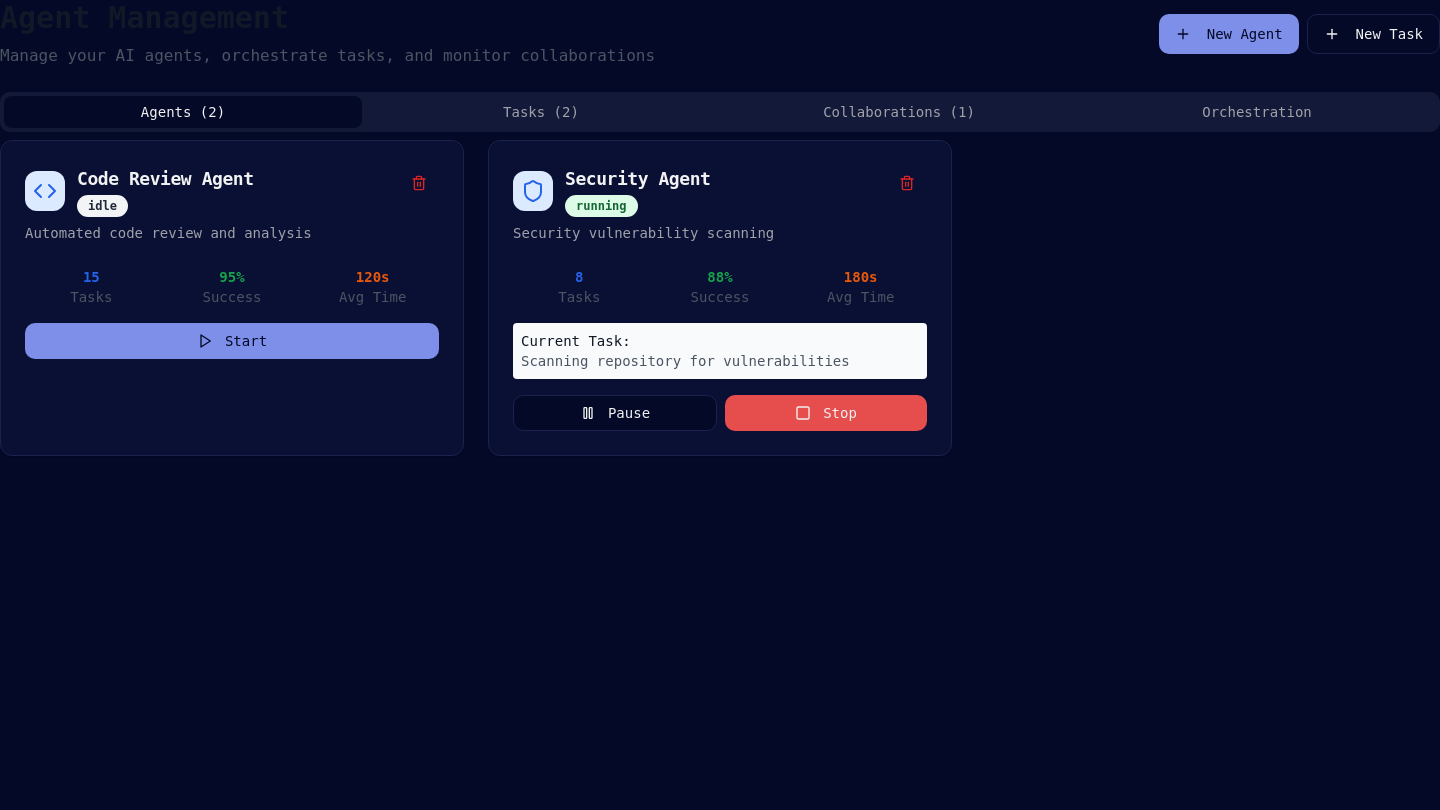
AgentManagement › disables create buttons when required fields are empty
# Open agent creation dialog
Click the button "New Agent" at (1229, 34), box [1159,14,1299,54]
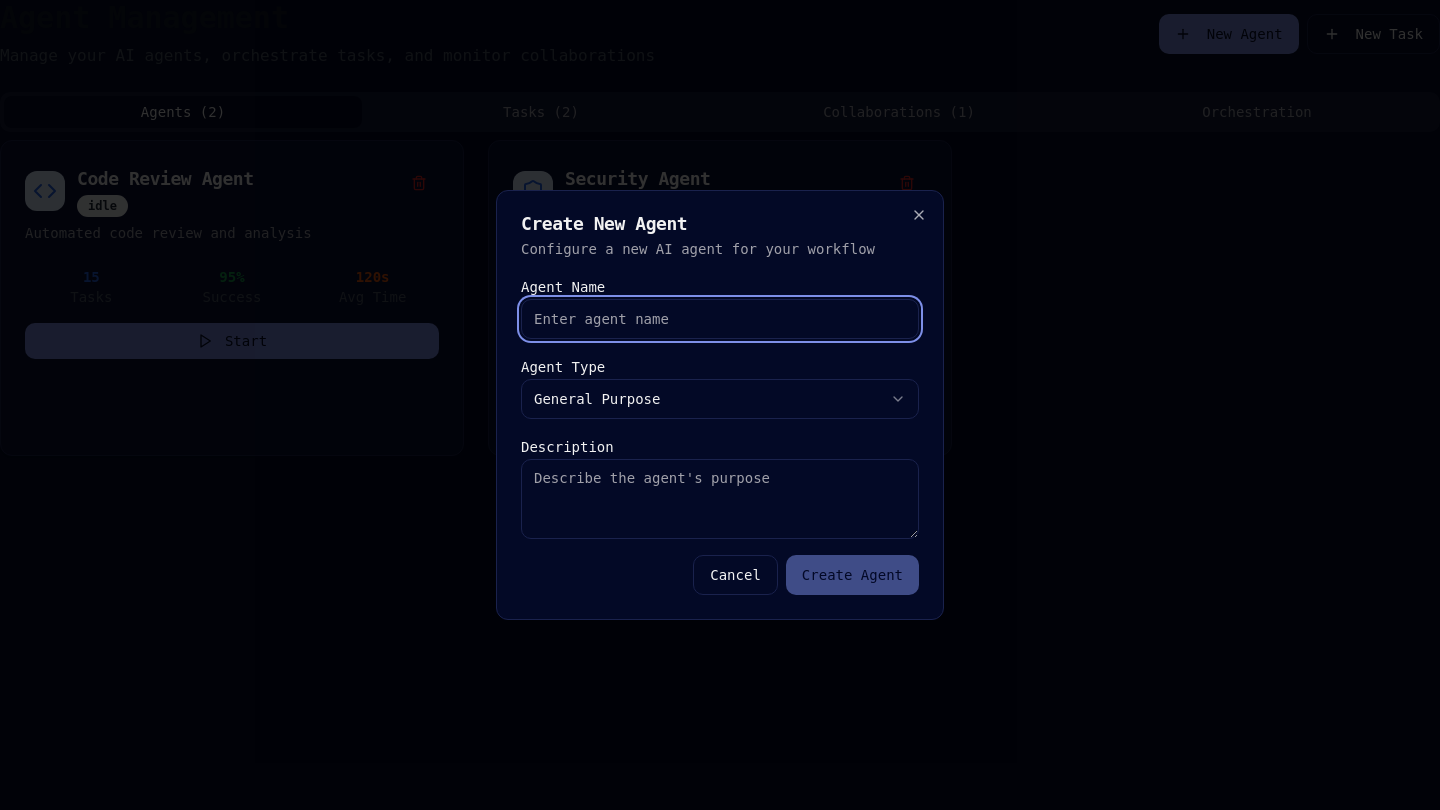
Result: the button "Create Agent" is disabled at [786,555,919,595]
# Open task creation dialog
Click the button "Cancel" at (736, 575), box [693,555,778,595]
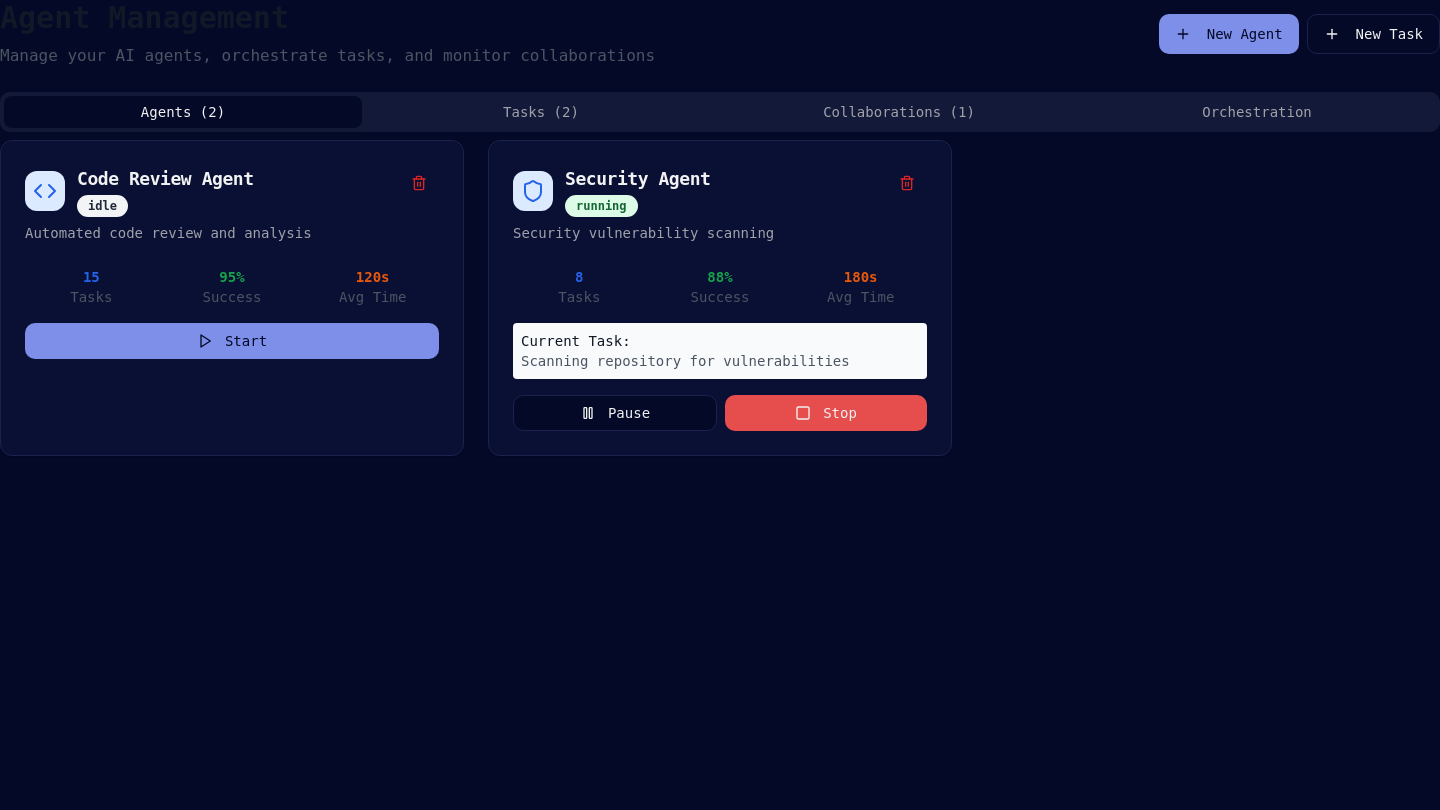
Click the button "New Task" at (1373, 34), box [1307,14,1439,54]
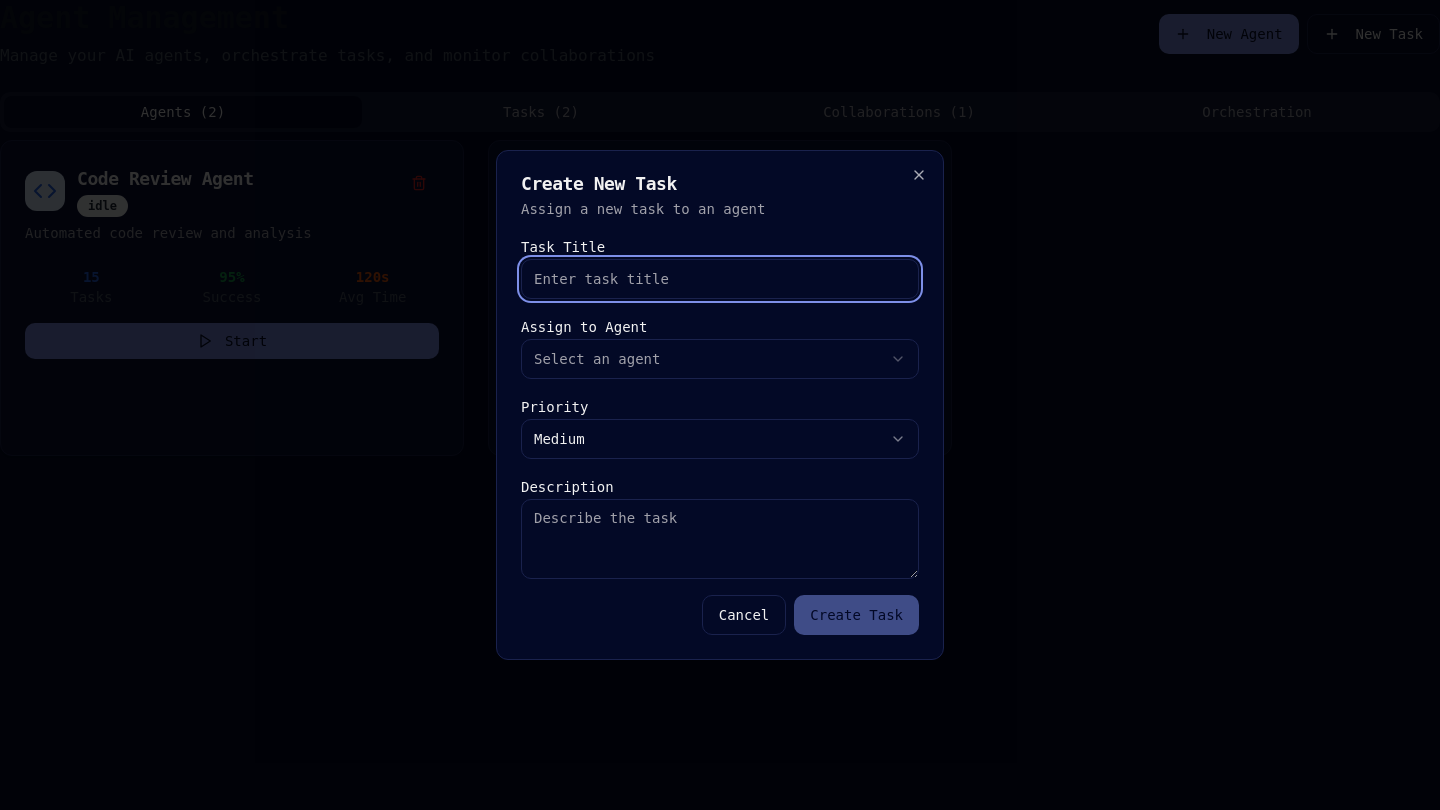
Result: the button "Create Task" is disabled at [794,595,919,635]
